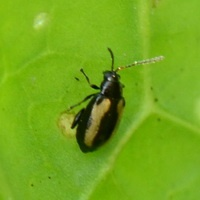insect: (58, 48, 163, 152)
